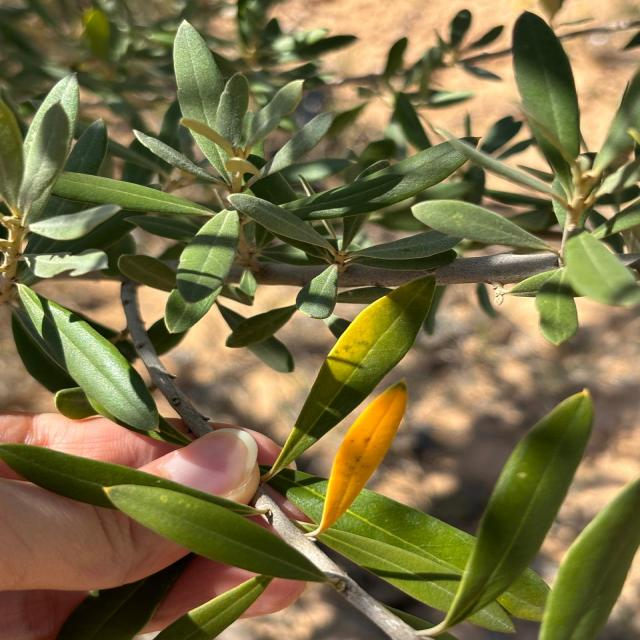Healthy: (423, 390, 593, 637), (104, 480, 325, 581), (512, 12, 583, 194), (165, 210, 242, 333), (411, 200, 559, 258)
Peacock Eye: (262, 276, 435, 480), (307, 381, 407, 538)
